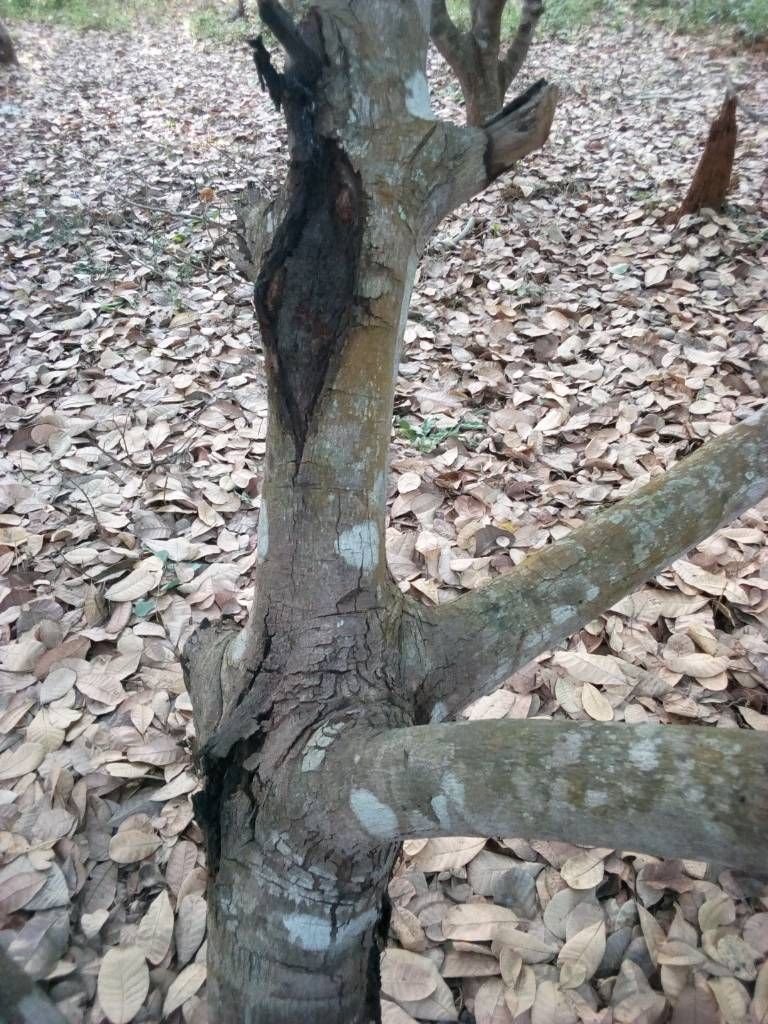ploceadorus ferrugineus: (221, 87, 458, 481)
